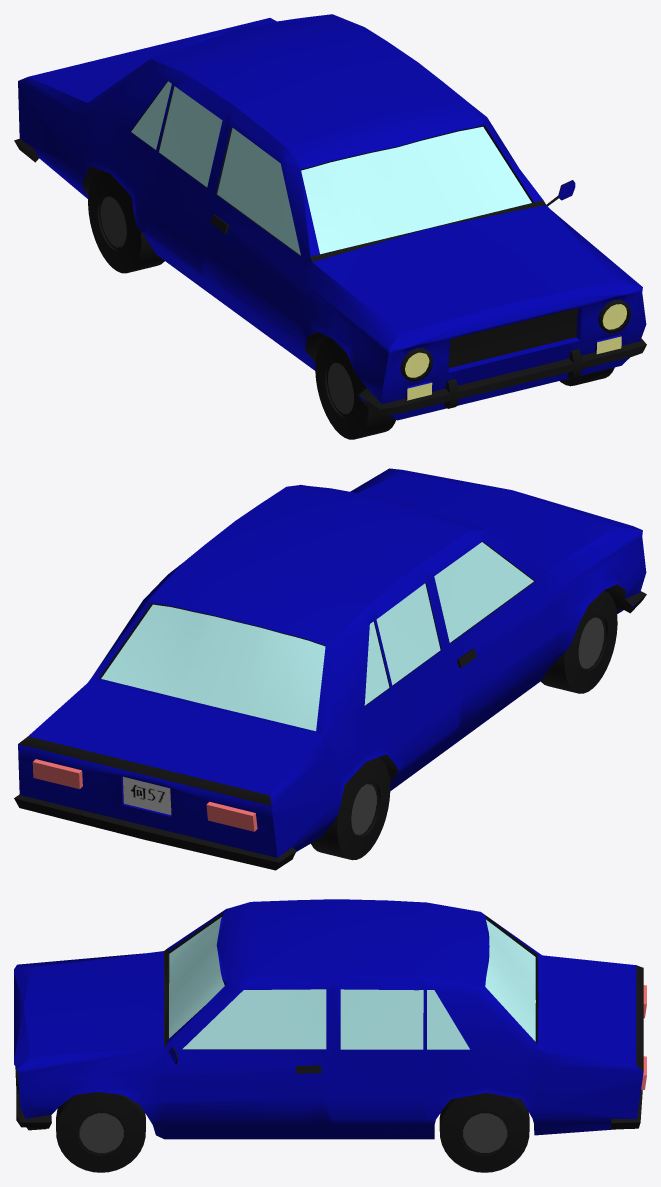
File: Car03.fbx
3 renders of one model, top to bottom at view 1: azimuth 30°, elevation 25°; view 2: azimuth 150°, elevation 25°; view 3: azimuth 270°, elevation 25°, orthographic. The views are drawn at different scales.
Parts seen in each view (by area): view 1: Car; view 2: Car; view 3: Car.
Part boxes in pixels (x1,y1,x2,y2): Car: (14, 14, 646, 439); Car: (14, 468, 646, 870); Car: (14, 899, 646, 1172).
Bounding box in the file's own units: 3.75 × 2.79 × 8.38.
Materials: 1 (1 with a texture image).
